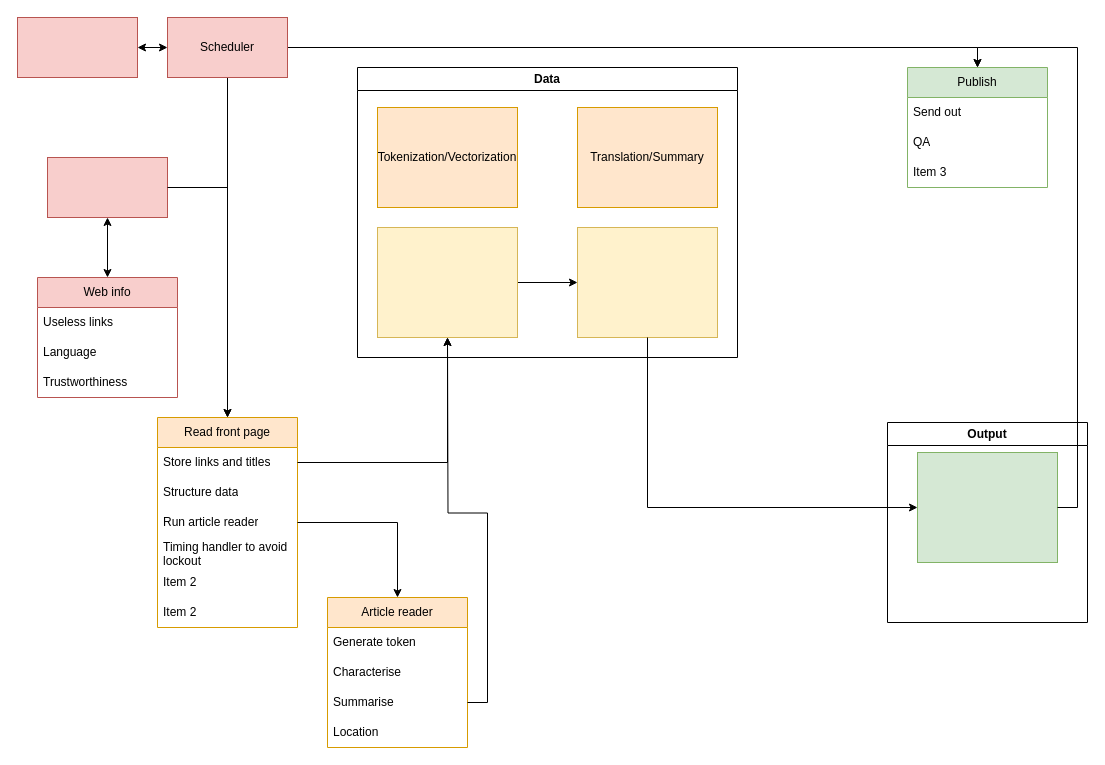
This 1105x765 diagram has some shape labels left out. The centre of each missing label's shape, as x and y in pixels:
"LaTex generator" goes at point (647, 282).
"Page XML" goes at point (447, 282).
"PDF" goes at point (987, 507).
"Watchdog" goes at point (77, 47).
"Website directory" goes at point (107, 187).
